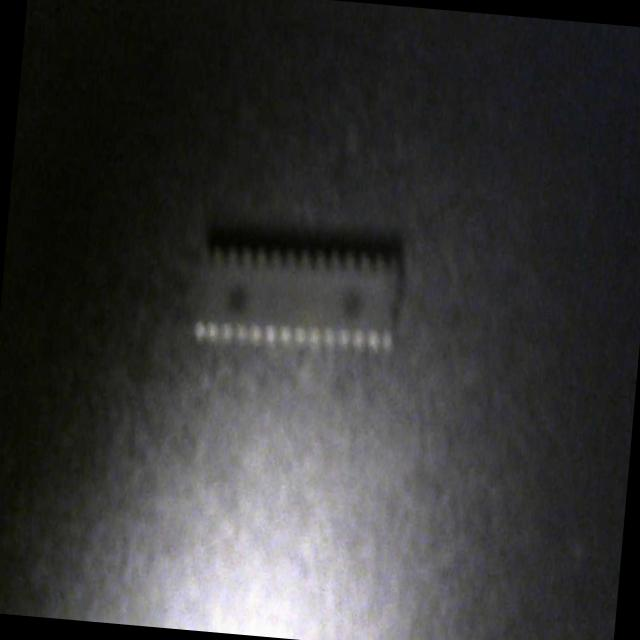atmega: (182, 204, 412, 370)
